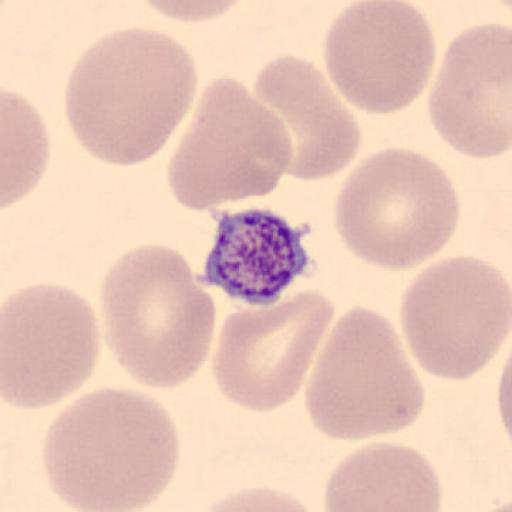Platelet: (198, 205, 316, 307)
RBC: (64, 26, 198, 167), (42, 385, 181, 512), (100, 242, 214, 391), (169, 76, 292, 212), (306, 305, 425, 443), (332, 146, 462, 270), (212, 288, 338, 413), (398, 254, 512, 384), (251, 53, 362, 183), (321, 0, 438, 116), (2, 282, 102, 411), (426, 22, 512, 160), (323, 440, 442, 512), (2, 86, 52, 210), (200, 485, 321, 512), (135, 0, 249, 24), (495, 332, 512, 452), (496, 358, 512, 444)
